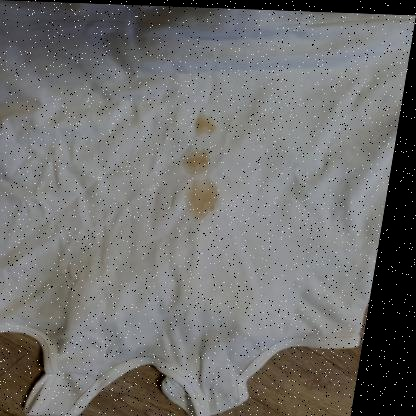coffee: (188, 183, 217, 218), (186, 150, 209, 173), (196, 117, 214, 137)
